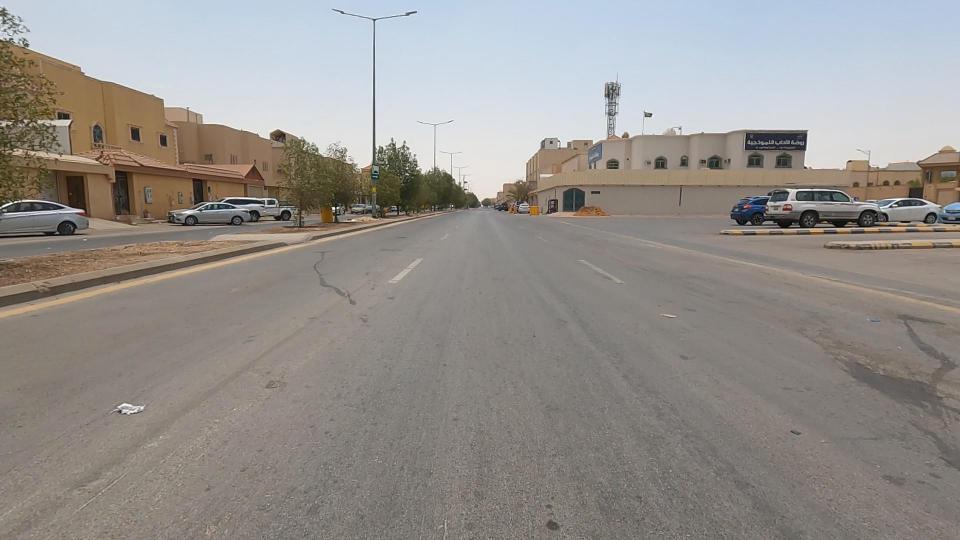GARBAGE: (75, 386, 188, 434)
SAND_ON_ROAD: (552, 185, 633, 231)
